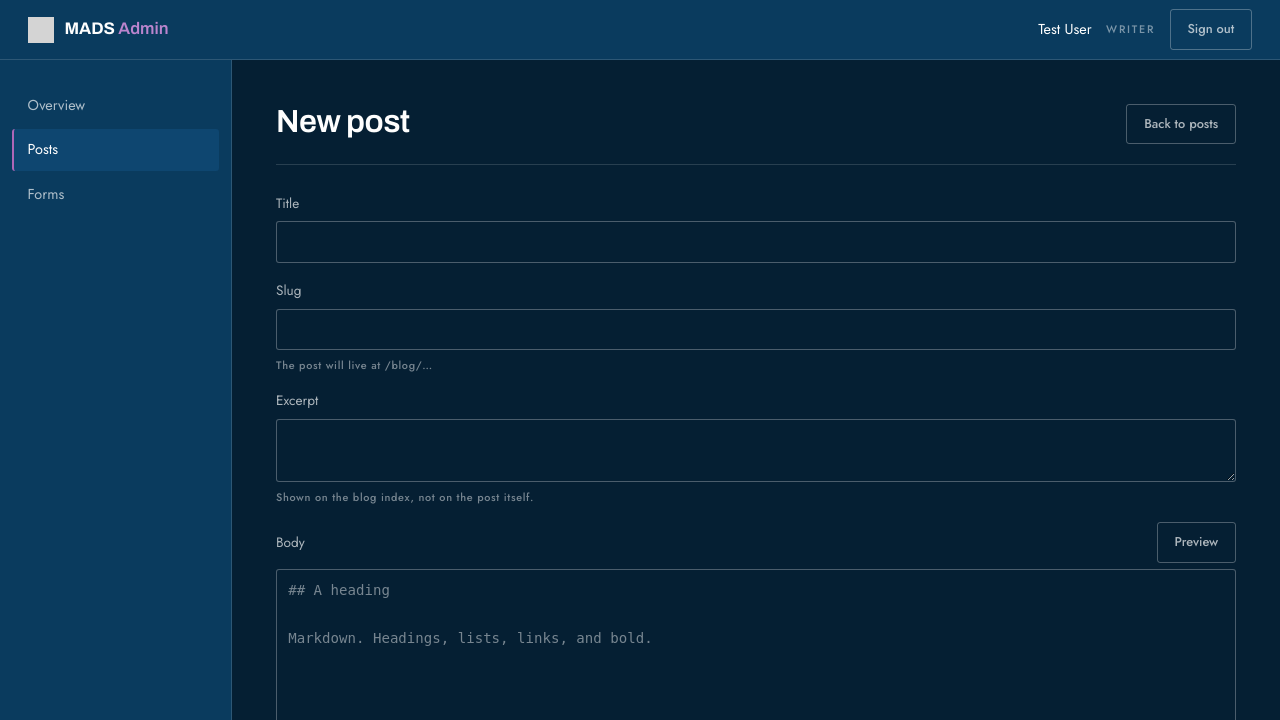
Test: PostEditor › creates a draft and keeps it unpublished
The width and height of the screenshot is (1280, 720).
Step 1. Type "A new post" into the field labelled "Title" → (756, 242), box [276, 221, 1236, 263]
(page scrolled)
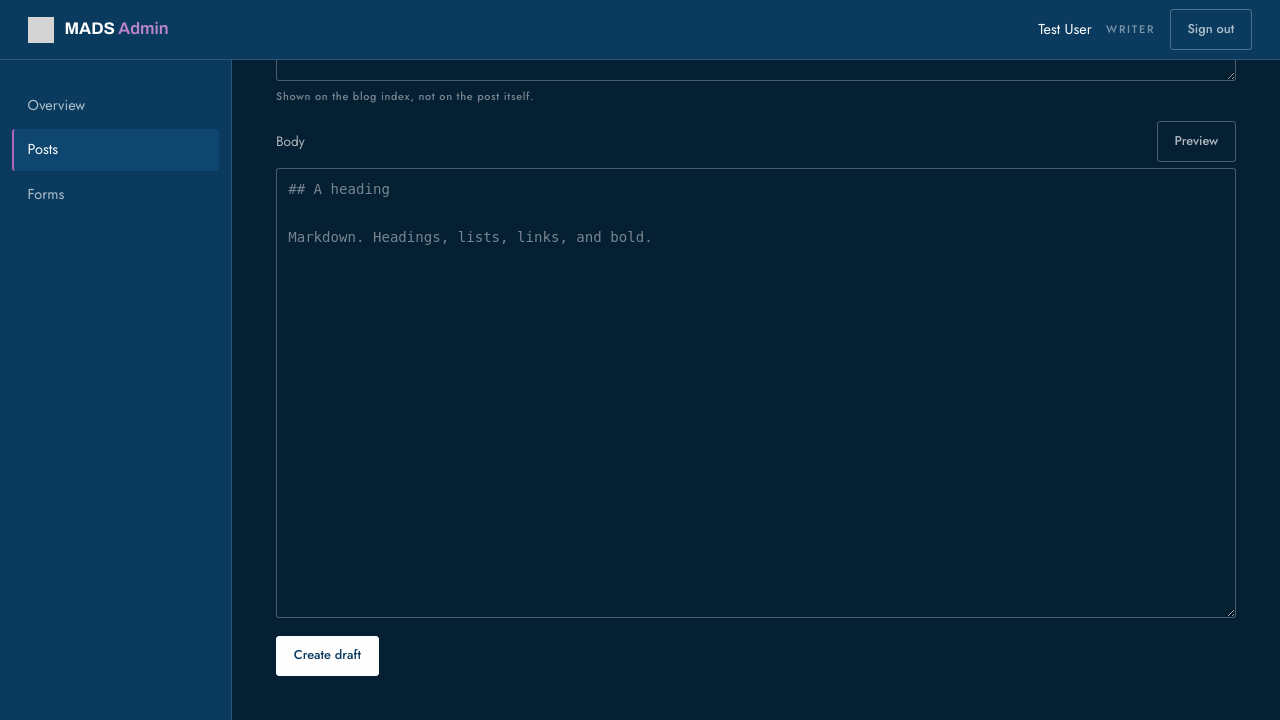
Step 2. Click the button "Create draft" → (327, 656), box [276, 636, 379, 676]
(page scrolled)
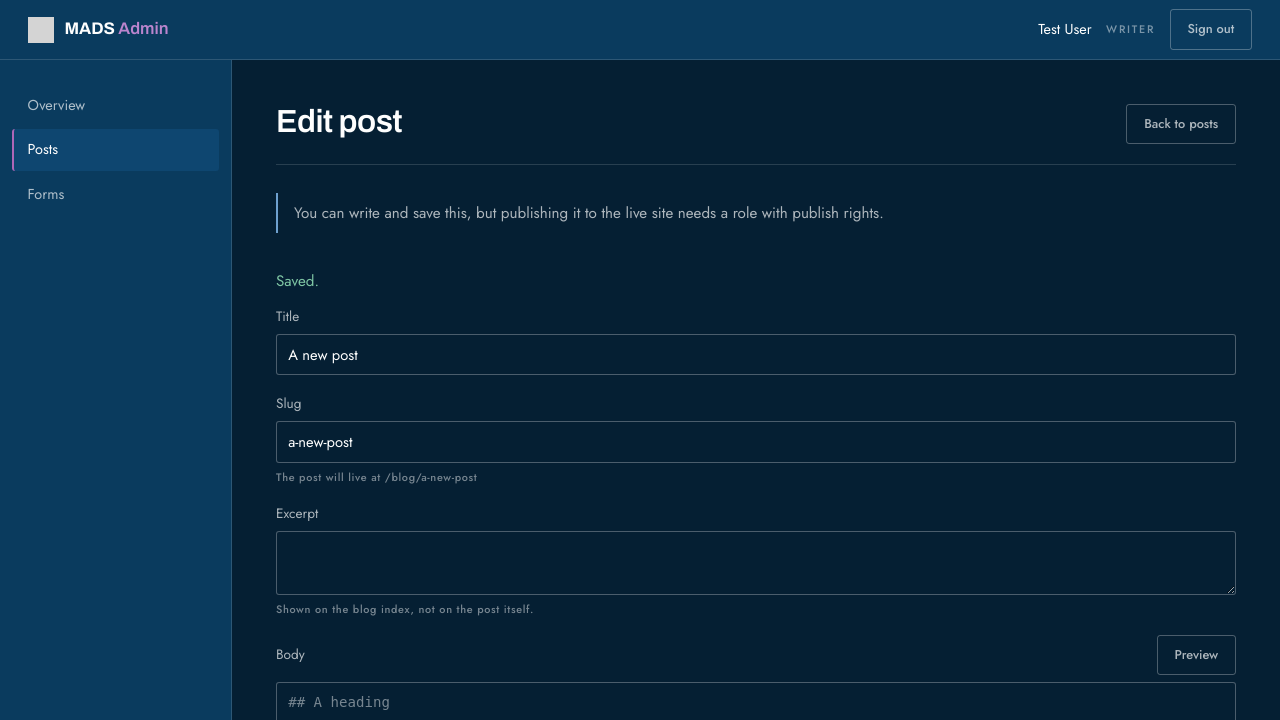
Result: the text "Saved." is shown at [276, 270, 319, 292]
